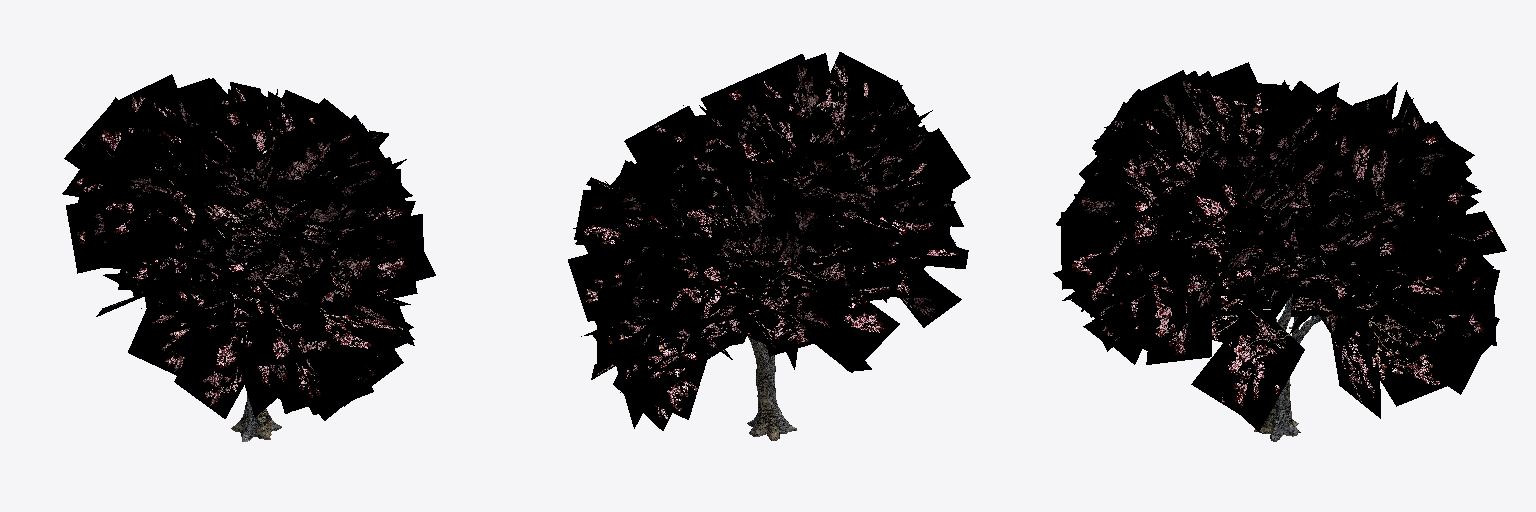
The picture shows the model from 3 angles: view 1: azimuth 30°, elevation 25°; view 2: azimuth 150°, elevation 25°; view 3: azimuth 270°, elevation 25°; orthographic projection.
Visible parts, largest first — view 1: prunusserrulata_1; view 2: prunusserrulata_1; view 3: prunusserrulata_1.
Part boxes in pixels (bbox=[...]): prunusserrulata_1: bbox=[62, 74, 435, 441]; prunusserrulata_1: bbox=[568, 52, 970, 440]; prunusserrulata_1: bbox=[1053, 62, 1506, 441].
Bounding box in the file's own units: 11.22 × 12.14 × 14.31.
7 materials, 7 textured.